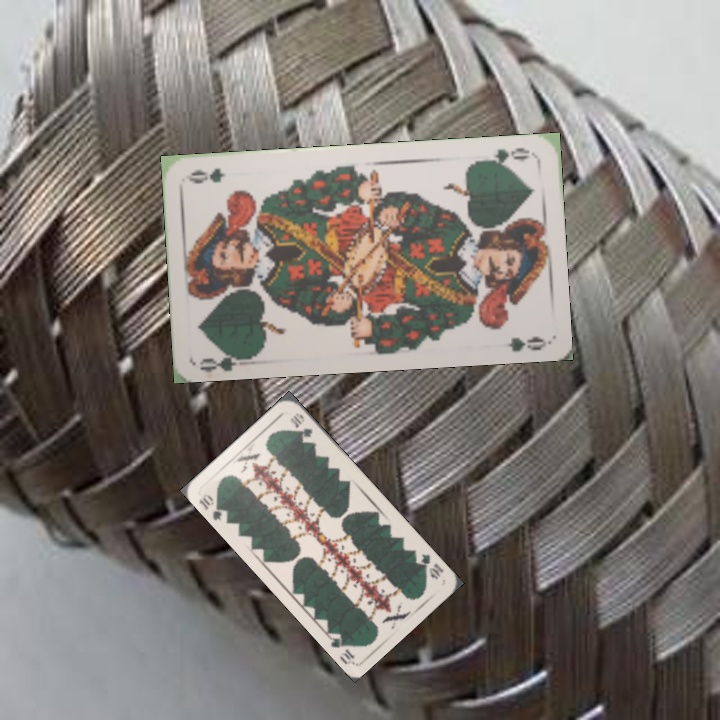G10: (195, 490, 231, 523), (414, 550, 446, 582)
GO: (197, 345, 257, 373), (476, 143, 533, 169)
